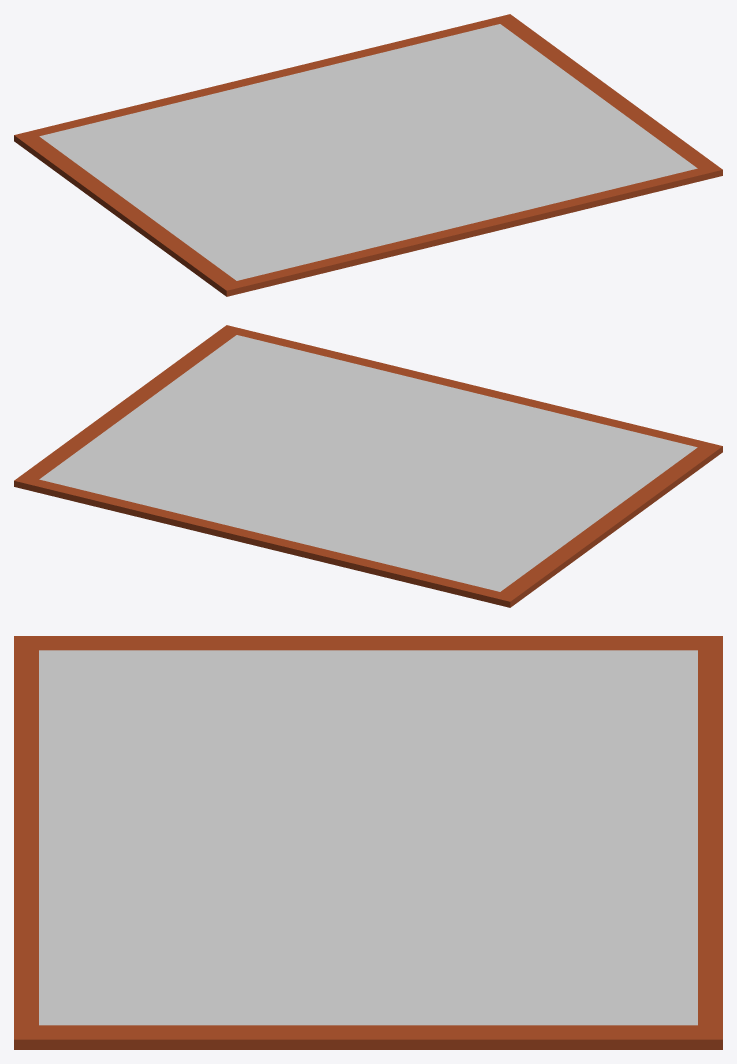
The model's file is arrugado.fbx.
The picture shows the model from 3 angles, top to bottom: view 1: azimuth 30°, elevation 25°; view 2: azimuth 150°, elevation 25°; view 3: azimuth 270°, elevation 25°; orthographic projection. The views are drawn at different scales.
Parts seen in each view (by area): view 1: Plane; view 2: Plane; view 3: Plane.
Part boxes in pixels (x1=…): Plane: x1=14, y1=14, x2=722, y2=296; Plane: x1=14, y1=325, x2=722, y2=607; Plane: x1=14, y1=636, x2=722, y2=1049.
Size of the model in its own units: 1187 by 13.98 by 881.
